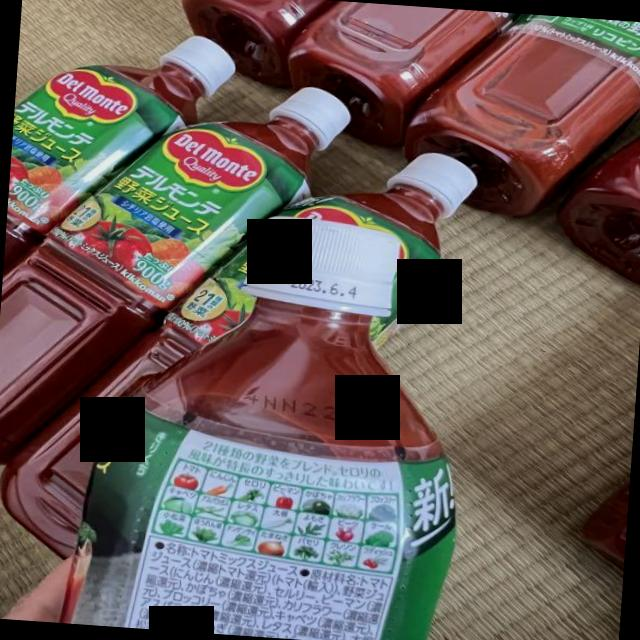juice: (1, 153, 477, 559), (60, 217, 456, 640), (0, 86, 351, 465), (3, 35, 236, 270), (404, 14, 640, 216), (289, 1, 495, 150), (181, 0, 333, 90), (555, 134, 640, 287)
